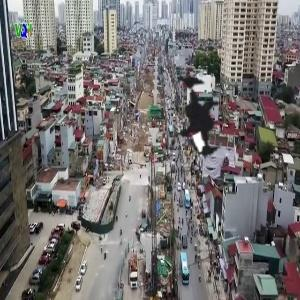drone: (122, 49, 259, 186)
